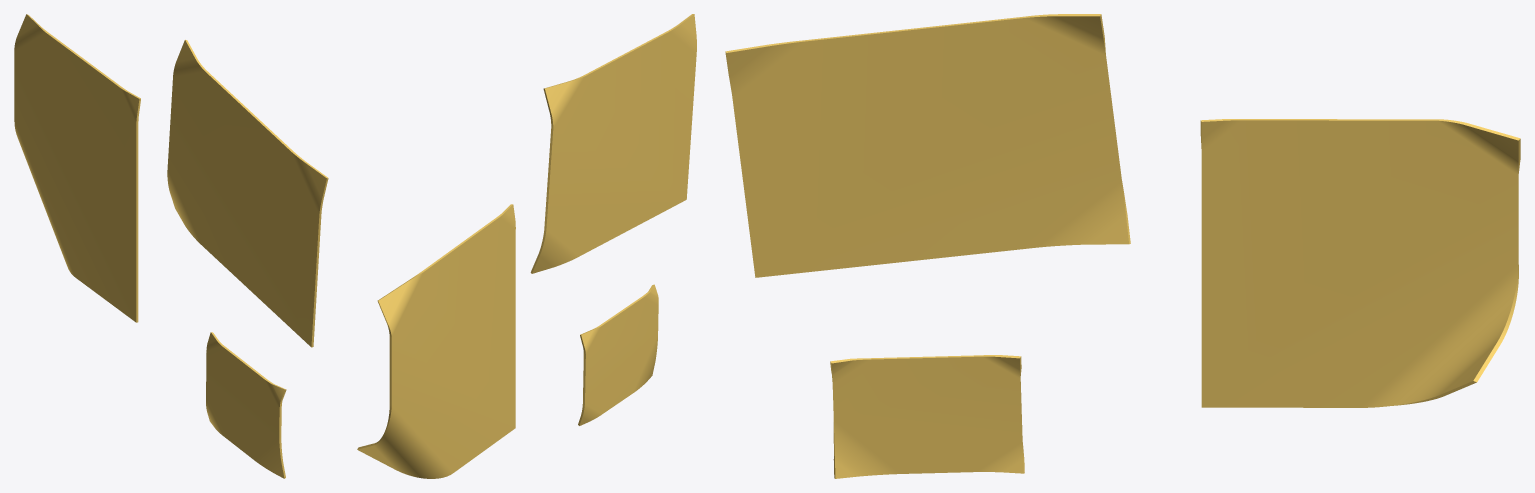
File: Sticky notes.fbx
The picture shows the model from 3 angles, left to right: view 1: azimuth 30°, elevation 25°; view 2: azimuth 150°, elevation 25°; view 3: azimuth 270°, elevation 25°; orthographic projection. The views are drawn at different scales.
Parts seen in each view (by area): view 1: Sticky Note horizontal, Sticky note vertical, Sticky Note small; view 2: Sticky note vertical, Sticky Note horizontal, Sticky Note small; view 3: Sticky note vertical, Sticky Note horizontal, Sticky Note small.
Part boxes in pixels (x1=…): Sticky Note horizontal: x1=167, y1=39, x2=328, y2=347; Sticky note vertical: x1=14, y1=14, x2=140, y2=322; Sticky Note small: x1=206, y1=332, x2=286, y2=478; Sticky note vertical: x1=357, y1=204, x2=515, y2=478; Sticky Note horizontal: x1=530, y1=14, x2=696, y2=273; Sticky Note small: x1=578, y1=284, x2=658, y2=425; Sticky note vertical: x1=1200, y1=119, x2=1520, y2=407; Sticky Note horizontal: x1=725, y1=14, x2=1130, y2=277; Sticky Note small: x1=830, y1=355, x2=1024, y2=478.
Size of the model in its own units: 28.2 by 186 by 287.
